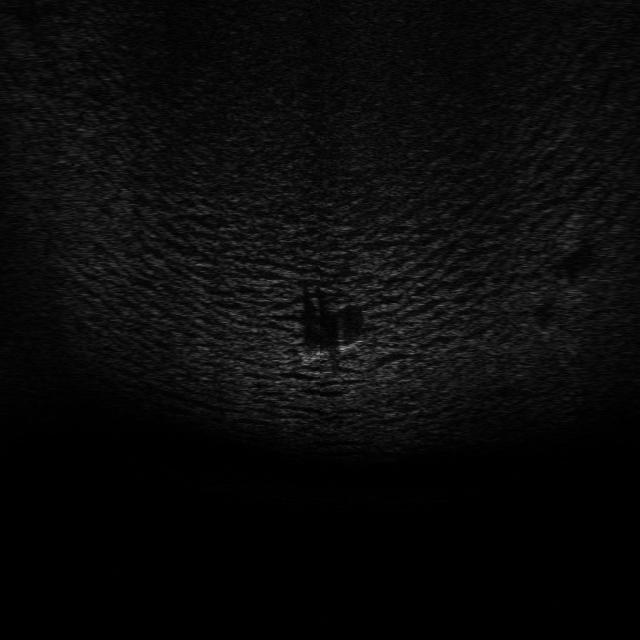plane: (294, 332, 367, 365)
